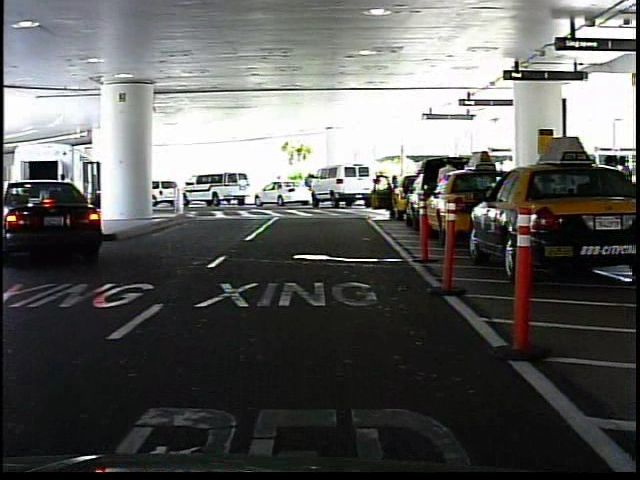person: (435, 156, 461, 228), (270, 172, 286, 203), (303, 171, 317, 202)
